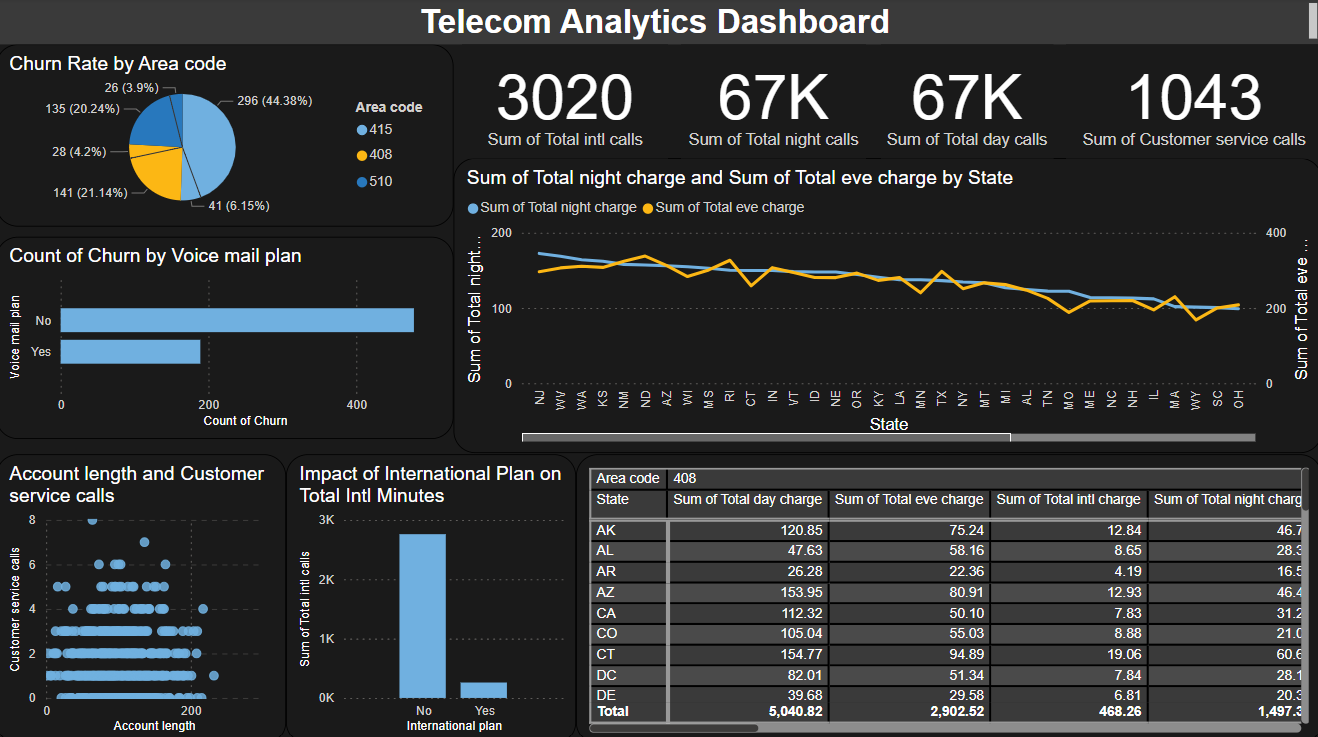

This screenshot's page, from the dashboard's own definition file:
{"tool":"powerbi","page":{"name":"Page 1","canvas":[1280,720],"ordinal":0},"visuals":[{"type":"columnChart","title":"Impact of International Plan on Total Intl Minutes","fields":{"Y":["Sum(churn-bigml-20.Total intl calls)"],"Category":["churn-bigml-20.International plan"]},"box":[280,440,280,280],"z":0},{"type":"scatterChart","fields":{"X":["churn-bigml-20.Account length"],"Y":["churn-bigml-20.Customer service calls"]},"box":[0,440,280,280],"z":1000},{"type":"pieChart","title":"Churn Rate by Area code","fields":{"Category":["churn-bigml-20.Area code"],"Y":["churn-bigml-20.Count of Churn for False","churn-bigml-20.Count of Churn for True"]},"box":[0,45,441.2,176.2],"z":2000},{"type":"textbox","box":[0,0,1280,45],"z":3000},{"type":"barChart","fields":{"Category":["churn-bigml-20.Voice mail plan"],"Y":["CountNonNull(churn-bigml-20.Churn)"]},"box":[0,230,441.2,195],"z":4000},{"type":"lineChart","fields":{"Category":["churn-bigml-20.State"],"Y":["Sum(churn-bigml-20.Total night charge)"],"Y2":["Sum(churn-bigml-20.Total eve charge)"]},"box":[441.2,155,838.8,285],"z":5000},{"type":"pivotTable","fields":{"Rows":["churn-bigml-20.State"],"Values":["Sum(churn-bigml-20.Total day charge)","Sum(churn-bigml-20.Total eve charge)","Sum(churn-bigml-20.Total intl charge)","Sum(churn-bigml-20.Total night charge)"],"Columns":["churn-bigml-20.Area code"]},"box":[560,440,720,280],"z":6000},{"type":"card","fields":{"Values":["Sum(churn-bigml-20.Customer service calls)"]},"box":[1032.5,45,247.5,110],"z":7000},{"type":"card","fields":{"Values":["Sum(churn-bigml-20.Total night calls)"]},"box":[661.2,45,178.8,110],"z":8000},{"type":"card","fields":{"Values":["Sum(churn-bigml-20.Total intl calls)"]},"box":[450,45,198.8,110],"z":9000},{"type":"card","fields":{"Values":["Sum(churn-bigml-20.Total day calls)"]},"box":[853.8,45,166.2,110],"z":10000}]}

Visuals, with their boxes in screenshot pixels (x1, y1, x2, y2), scaled from the page's 1280x720 canvas onto the 1318x737 screenshot:
"Impact of International Plan on Total Intl Minutes" columnChart: (x1=288, y1=450, x2=577, y2=736)
scatterChart - churn-bigml-20.Account length x churn-bigml-20.Customer service calls: (x1=0, y1=450, x2=288, y2=736)
"Churn Rate by Area code" pieChart: (x1=0, y1=46, x2=454, y2=226)
textbox: (x1=0, y1=0, x2=1317, y2=46)
barChart - churn-bigml-20.Voice mail plan x CountNonNull(churn-bigml-20.Churn): (x1=0, y1=235, x2=454, y2=435)
lineChart - churn-bigml-20.State x Sum(churn-bigml-20.Total night charge): (x1=454, y1=159, x2=1317, y2=450)
pivotTable - churn-bigml-20.State x Sum(churn-bigml-20.Total day charge): (x1=577, y1=450, x2=1317, y2=736)
card - Sum(churn-bigml-20.Customer service calls): (x1=1063, y1=46, x2=1317, y2=159)
card - Sum(churn-bigml-20.Total night calls): (x1=681, y1=46, x2=865, y2=159)
card - Sum(churn-bigml-20.Total intl calls): (x1=463, y1=46, x2=668, y2=159)
card - Sum(churn-bigml-20.Total day calls): (x1=879, y1=46, x2=1050, y2=159)
